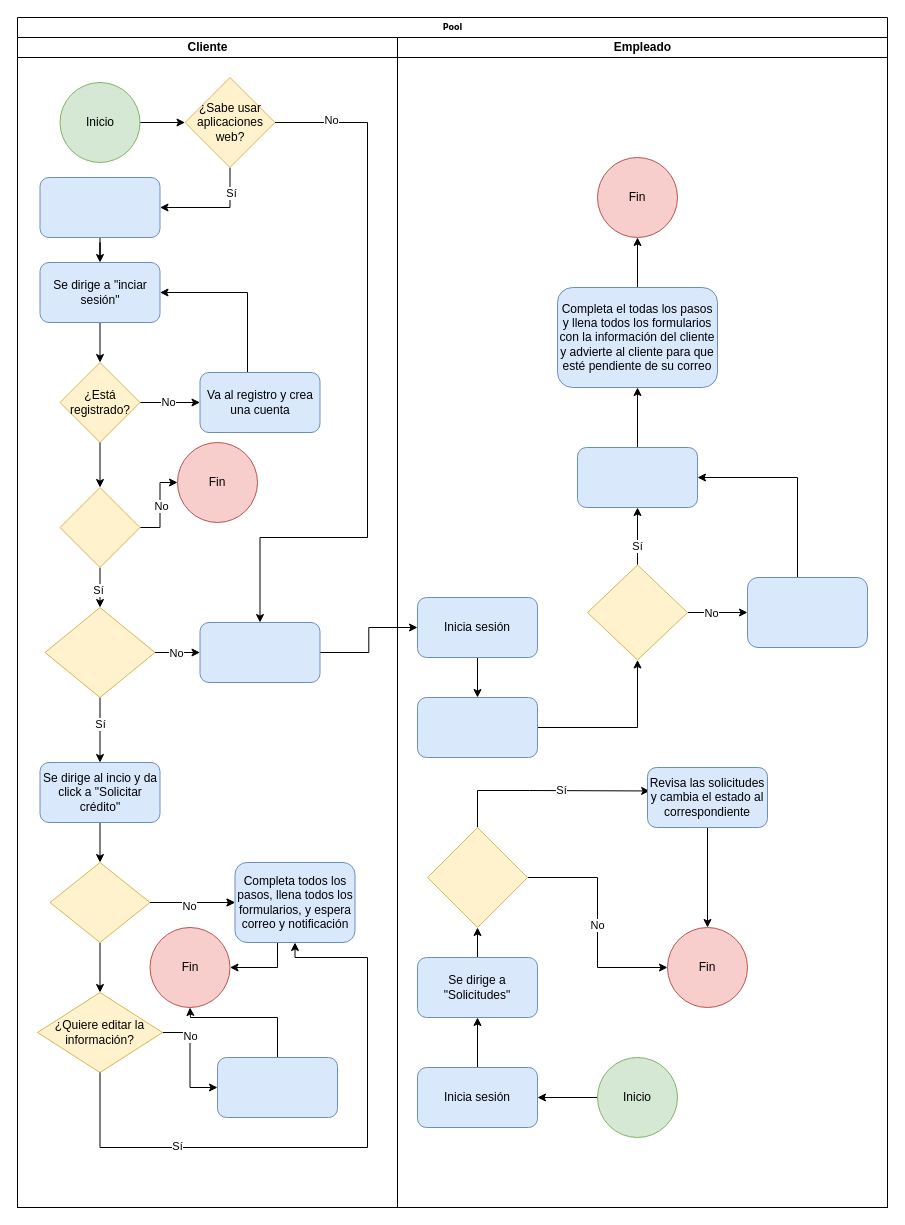
Some shapes in this 905 by 1225 pixel diagram are drawn without their labels. Here are the shapes that lost their labels. From the top down, the centre of each, then its label:
(99,207): Entra a la app
(637,477): Busca al cliente y selecciona "Crédito"
(99,527): ¿Desea solicitar un crédito?
(637,612): ¿El cliente ya tiene tiene una cuenta?
(807,612): Selecciona "Crear usuario" y llena el formulario
(99,652): Sabe manejar la plataforma
(259,652): Solicita ayuda a un asesor, por llamada o de forma física
(477,727): Se dirige a "Clientes"
(477,877): ¿Hay solicitudes pendientes?
(99,902): ¿Tiene una solicitud en curso?
(277,1087): Salta todos los pasos y verifica la información.
